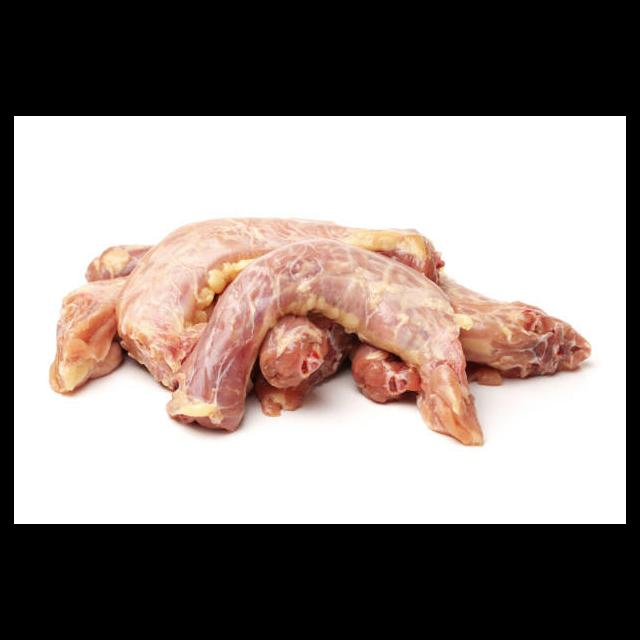chicken: (165, 243, 486, 451), (116, 221, 443, 389), (437, 272, 593, 378), (48, 274, 133, 398)
